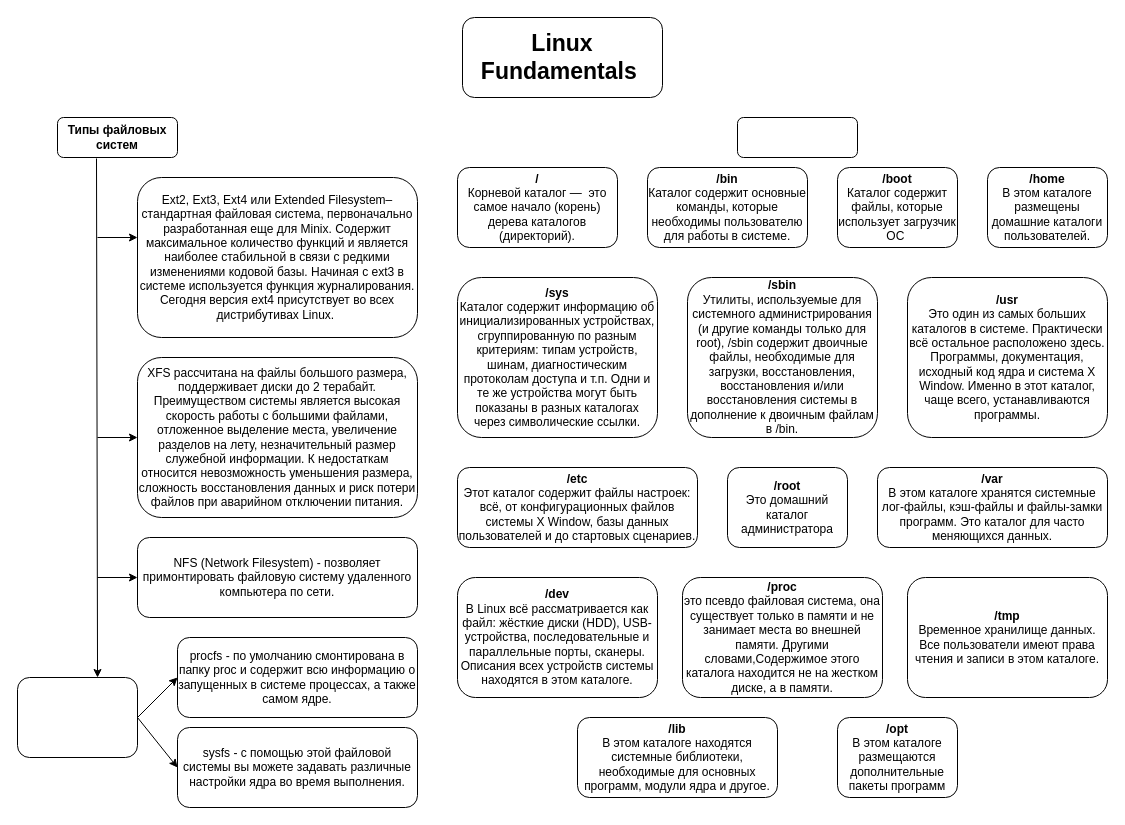
The diagram is 1125 pixels wide and 825 high, and some of its shapes have lost their labels. The centre of each missing label's shape, as x and y in pixels:
Дерево каталогов: the point at 797,137
Специальные файловые системы: the point at 77,717
